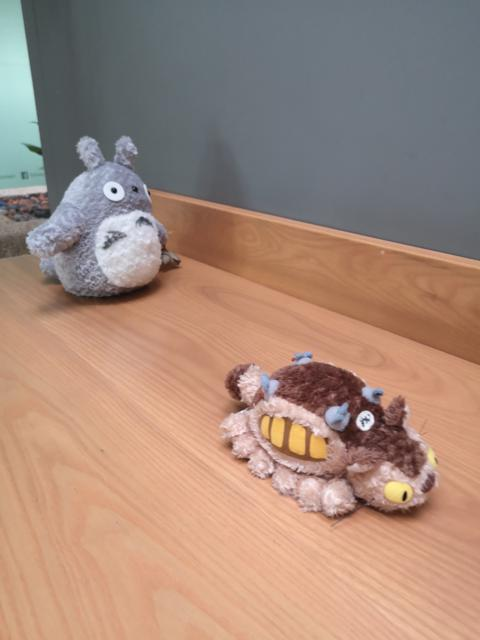nekobus: (217, 344, 445, 525)
totoro: (20, 131, 189, 304)
